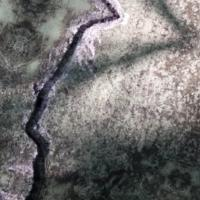crack: (16, 0, 122, 199)
